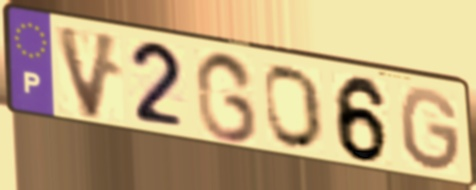2: (123, 39, 193, 134)
6: (332, 73, 395, 167)
G: (193, 49, 261, 146), (397, 85, 463, 176)
O: (261, 63, 327, 152)
V: (51, 21, 124, 124)
